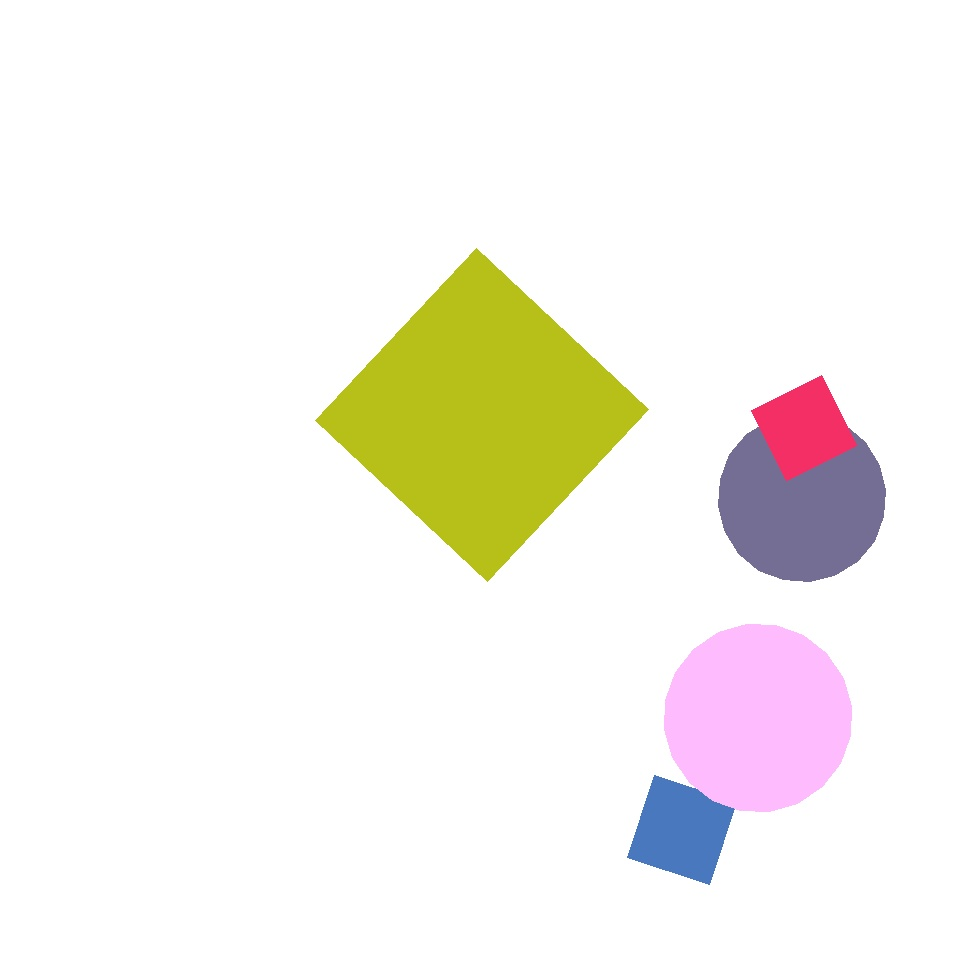circle: (341, 642, 529, 824)
square: (316, 249, 648, 582), (628, 776, 736, 884), (752, 376, 856, 480)
triangle: (114, 310, 412, 608), (116, 277, 362, 524), (250, 377, 468, 594), (664, 624, 852, 812), (719, 415, 886, 582)
